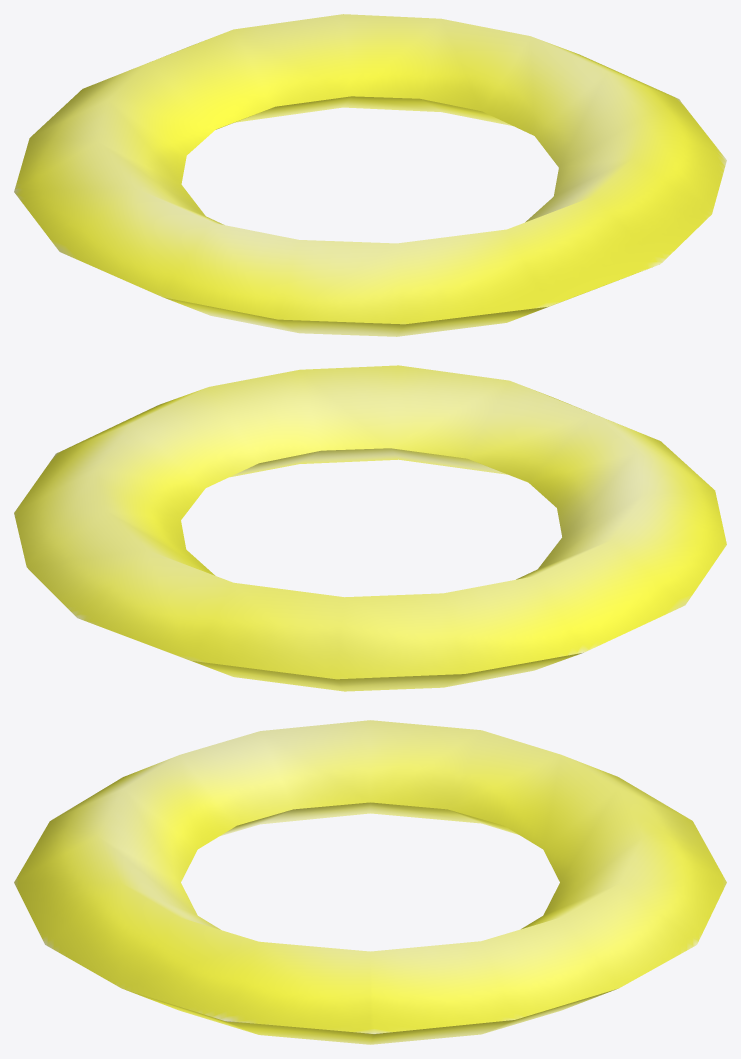
The model's file is giftgoods005.fbx.
3 views of the same model, one above another, from view 1: azimuth 30°, elevation 25°; view 2: azimuth 150°, elevation 25°; view 3: azimuth 270°, elevation 25° (orthographic).
Visible parts, largest first — view 1: giftgoods005; view 2: giftgoods005; view 3: giftgoods005.
Boxes of the visible parts, box(x1,y1,x2,y2) form: giftgoods005: box(14, 14, 726, 336); giftgoods005: box(14, 365, 726, 691); giftgoods005: box(14, 720, 726, 1044).
Size of the model in its own units: 0.9779 by 0.1405 by 0.9729.
